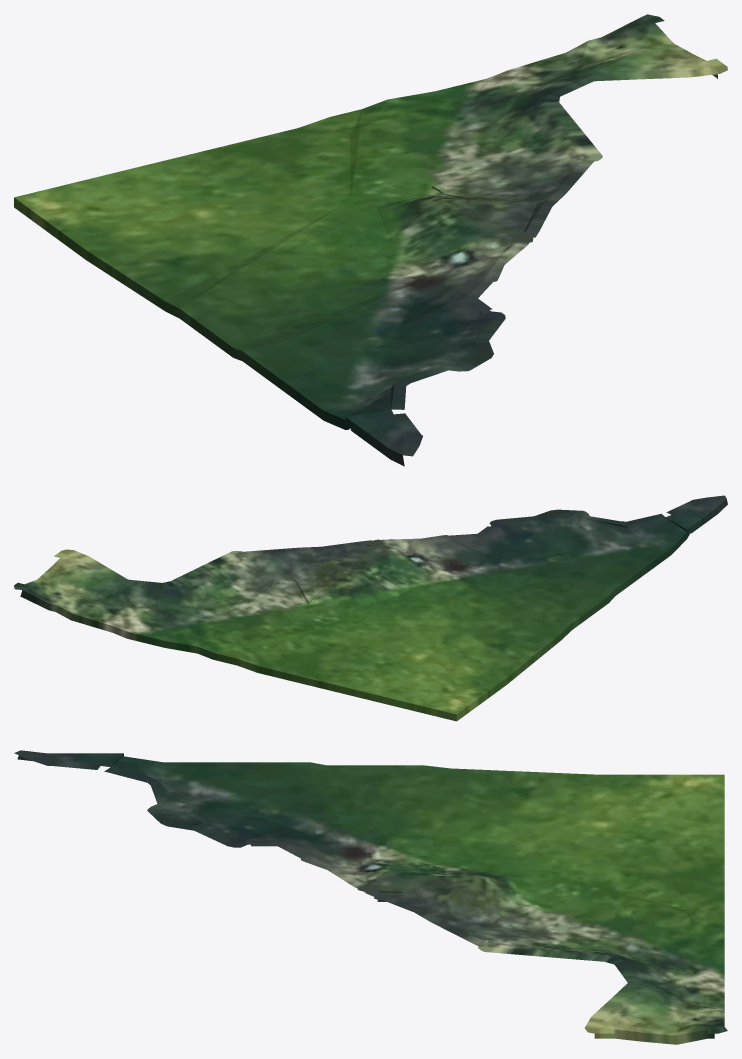
Rendered from BuildingMesh-00057.gltf.
The picture shows the model from 3 angles, top to bottom: view 1: azimuth 30°, elevation 25°; view 2: azimuth 150°, elevation 25°; view 3: azimuth 270°, elevation 25°; orthographic projection. The views are drawn at different scales.
Parts seen in each view (by area): view 1: BuildingMesh-00057; view 2: BuildingMesh-00057; view 3: BuildingMesh-00057.
Boxes of the visible parts, x1,y1,x2,y2 form: BuildingMesh-00057: [14, 14, 727, 466]; BuildingMesh-00057: [14, 495, 727, 721]; BuildingMesh-00057: [14, 750, 727, 1044].
Size of the model in its own units: 0.7882 by 0.0431 by 0.8392.
1 material, 1 textured.
